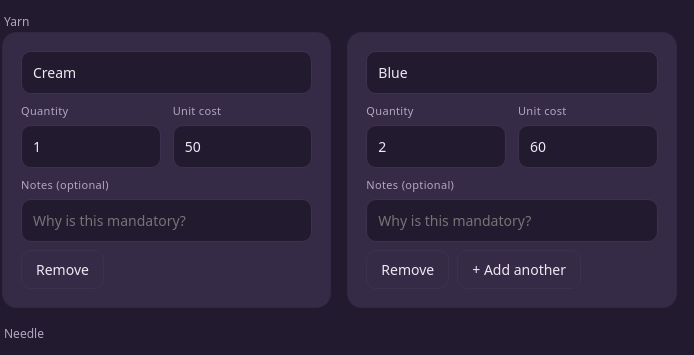
Test case: MandatoryItemsFields › removing an entry leaves the others untouched, and hides Remove when only one entry is left
This screenshot has width=694, height=355.
Click the button with aria-label "remove yarn entry 1": (62, 270) [21,250,104,290]
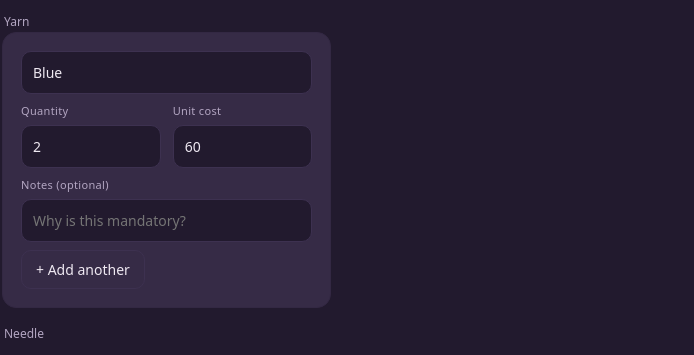
expect the field showing "Cream" is not shown: met
expect the field showing "Blue" is shown: met, box [21,51,312,94]
